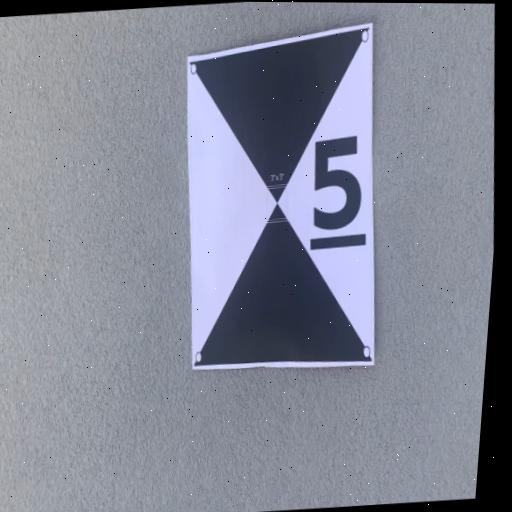target5: (165, 43, 397, 377)
